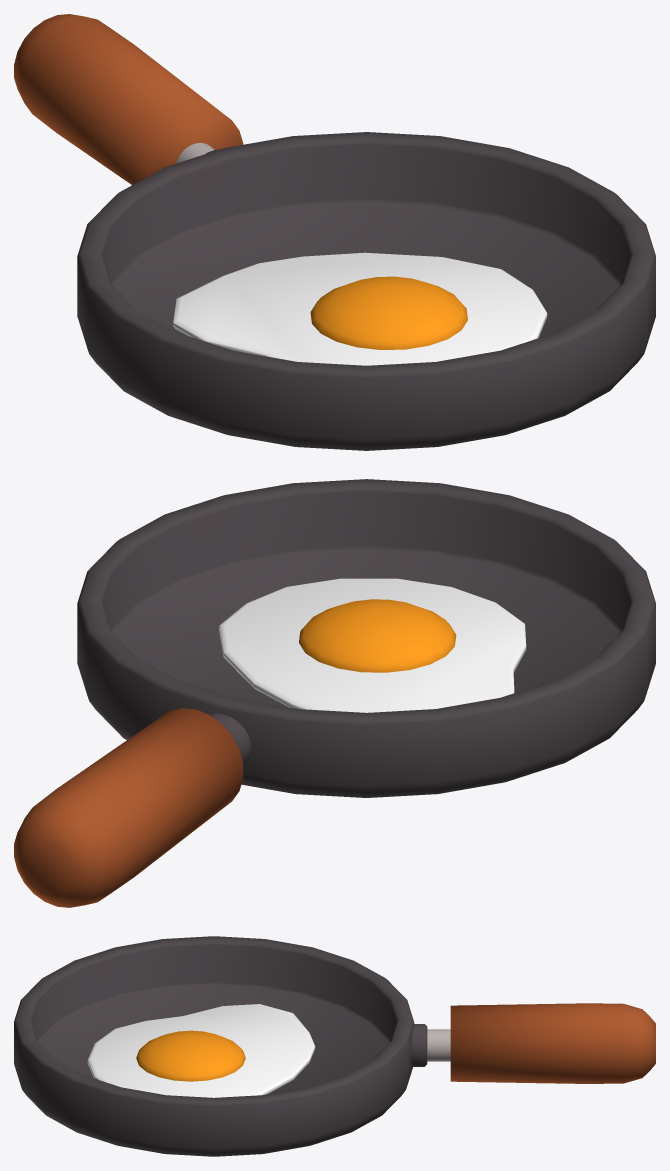
File: pan.fbx
3 views of the same model, one above another, from view 1: azimuth 30°, elevation 25°; view 2: azimuth 150°, elevation 25°; view 3: azimuth 270°, elevation 25° (orthographic). The views are drawn at different scales.
Visible parts, largest first — view 1: pan; view 2: pan; view 3: pan.
Part boxes in pixels (left/top/right/bottom): pan: left=14, top=14, right=655, bottom=450; pan: left=14, top=479, right=655, bottom=907; pan: left=14, top=936, right=655, bottom=1156.
Size of the model in its own units: 3.27 by 0.6671 by 5.25.
